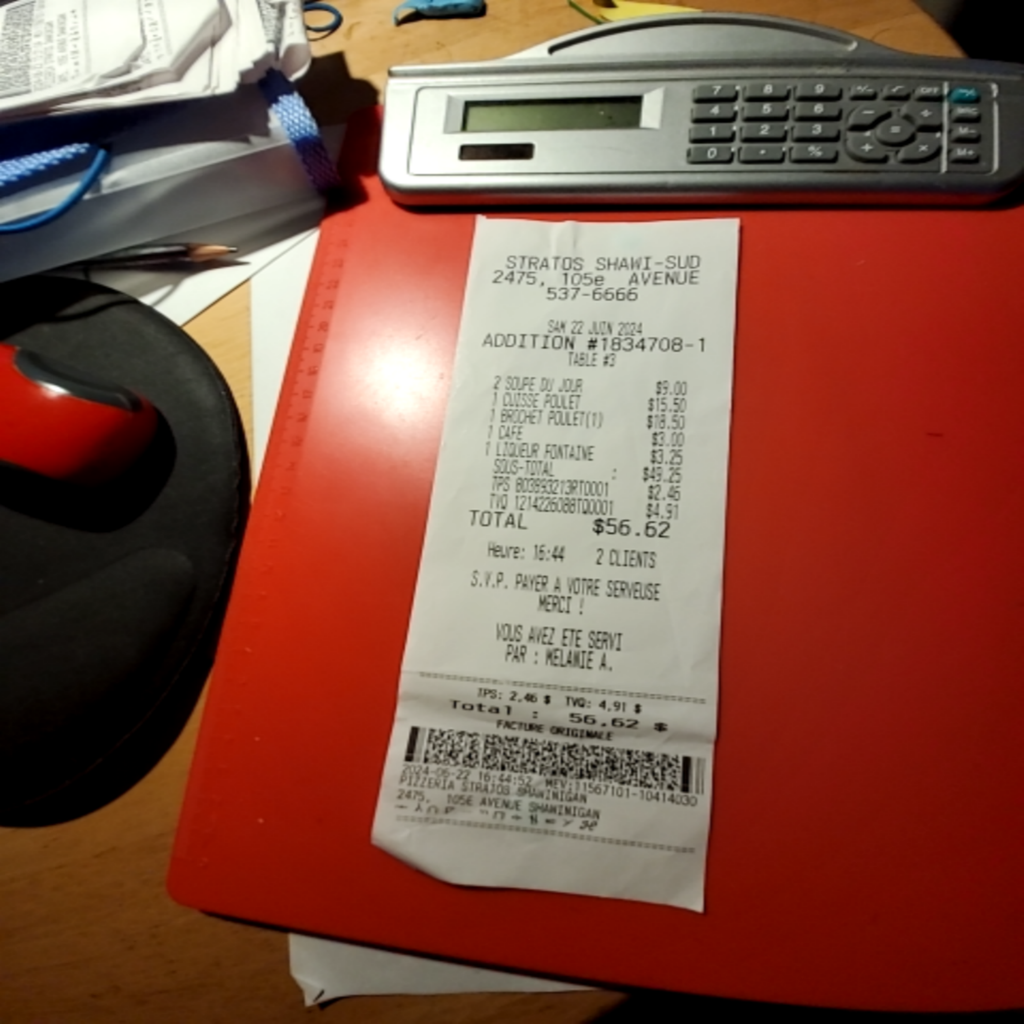recipt: (369, 214, 743, 912)
